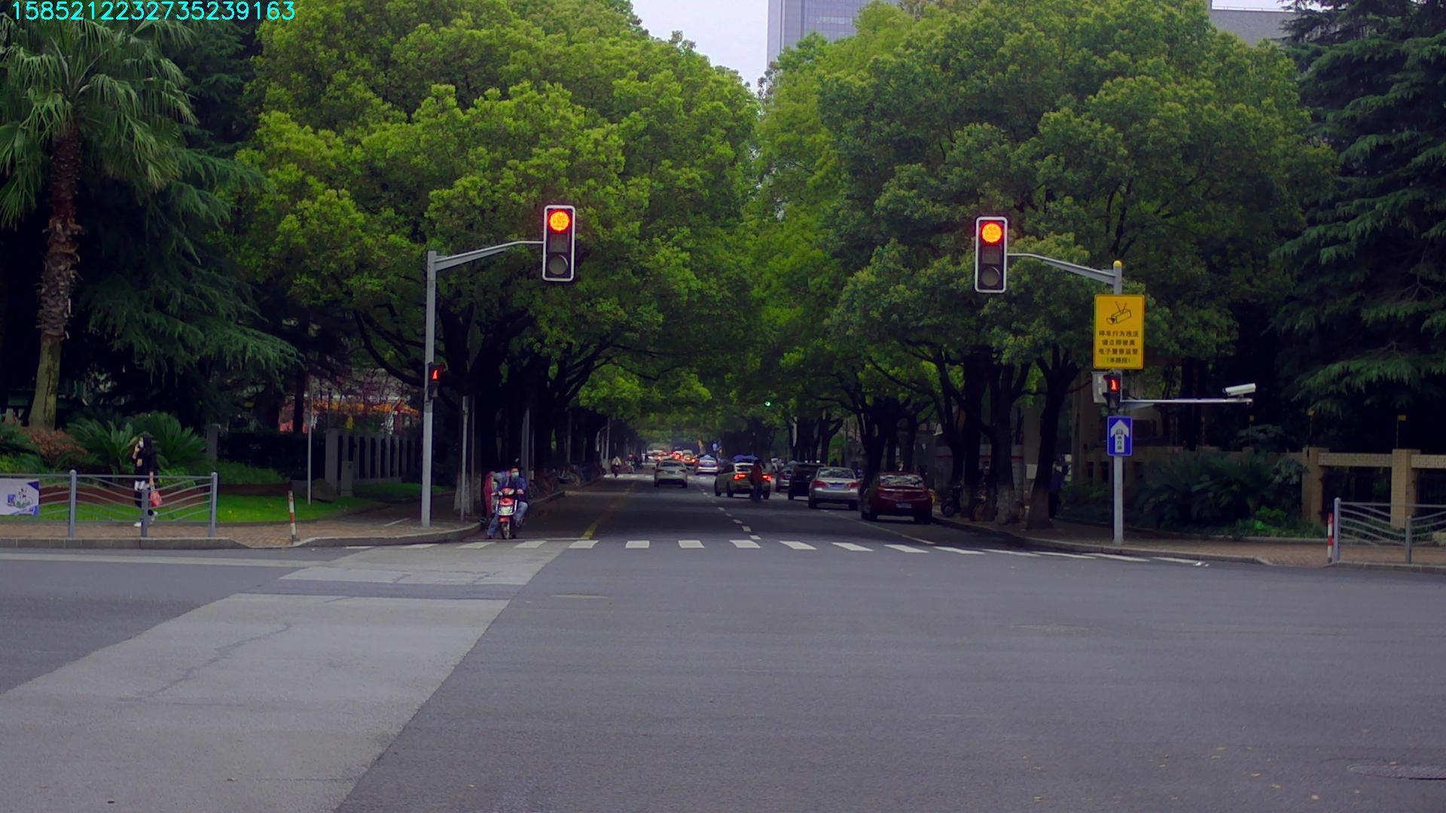red: (978, 218, 1004, 291), (545, 206, 571, 279)
